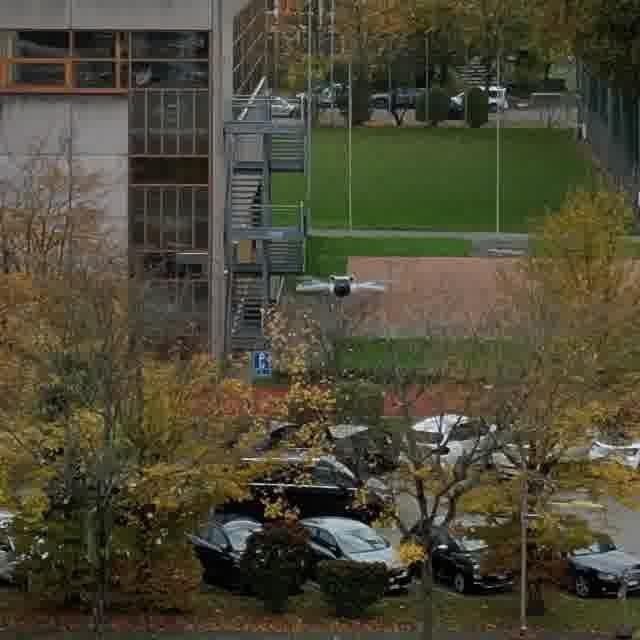Drohne: (297, 274, 387, 298)
